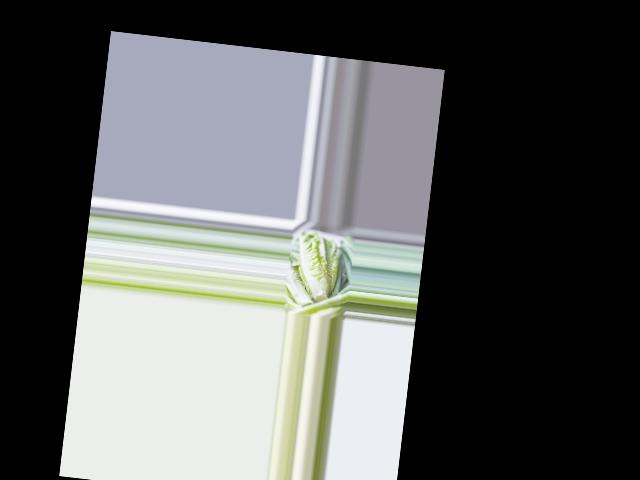lettuce: (291, 230, 342, 303)
